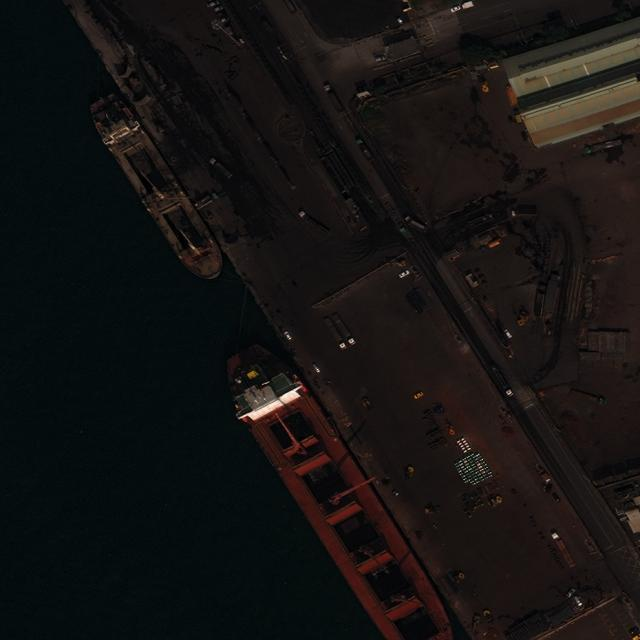Cargo: (83, 85, 231, 290)
Container Ship: (222, 349, 453, 635)
